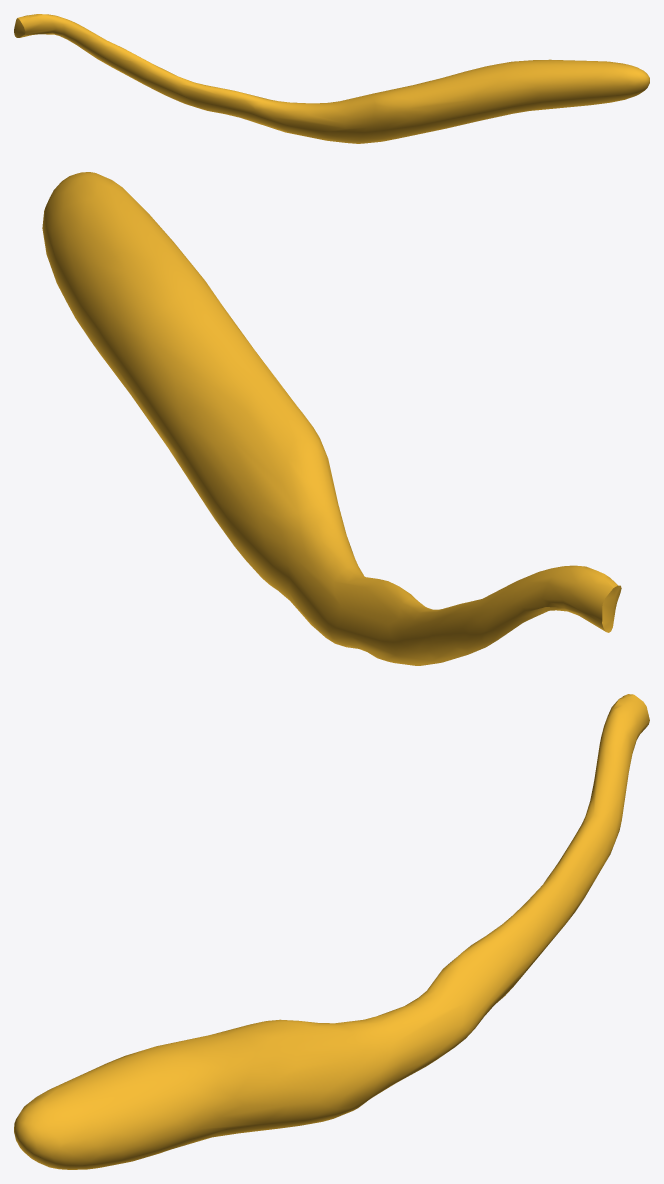
Rendered from nervoso-peduncle-of-flocculus-l.glb.
3 views of the same model, one above another, from view 1: azimuth 30°, elevation 25°; view 2: azimuth 150°, elevation 25°; view 3: azimuth 270°, elevation 25° (orthographic). The views are drawn at different scales.
Visible parts, largest first — view 1: Peduncle of flocculus.l; view 2: Peduncle of flocculus.l; view 3: Peduncle of flocculus.l.
Boxes of the visible parts, x1,y1,x2,y2 form: Peduncle of flocculus.l: (14, 14, 649, 143); Peduncle of flocculus.l: (42, 172, 621, 665); Peduncle of flocculus.l: (14, 694, 649, 1169).
Size of the model in its own units: 0.0333 by 0.00868 by 0.0237.
